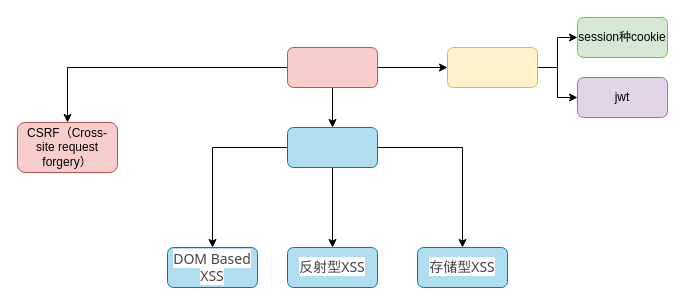
This 685x305 diagram has some shape labels left out. The centre of each missing label's shape, as x and y in pixels:
XSS（ Cross Site Script ）攻击: point (332, 147)
前端安全: point (332, 67)
服务器和客户端身份认证: point (492, 67)
